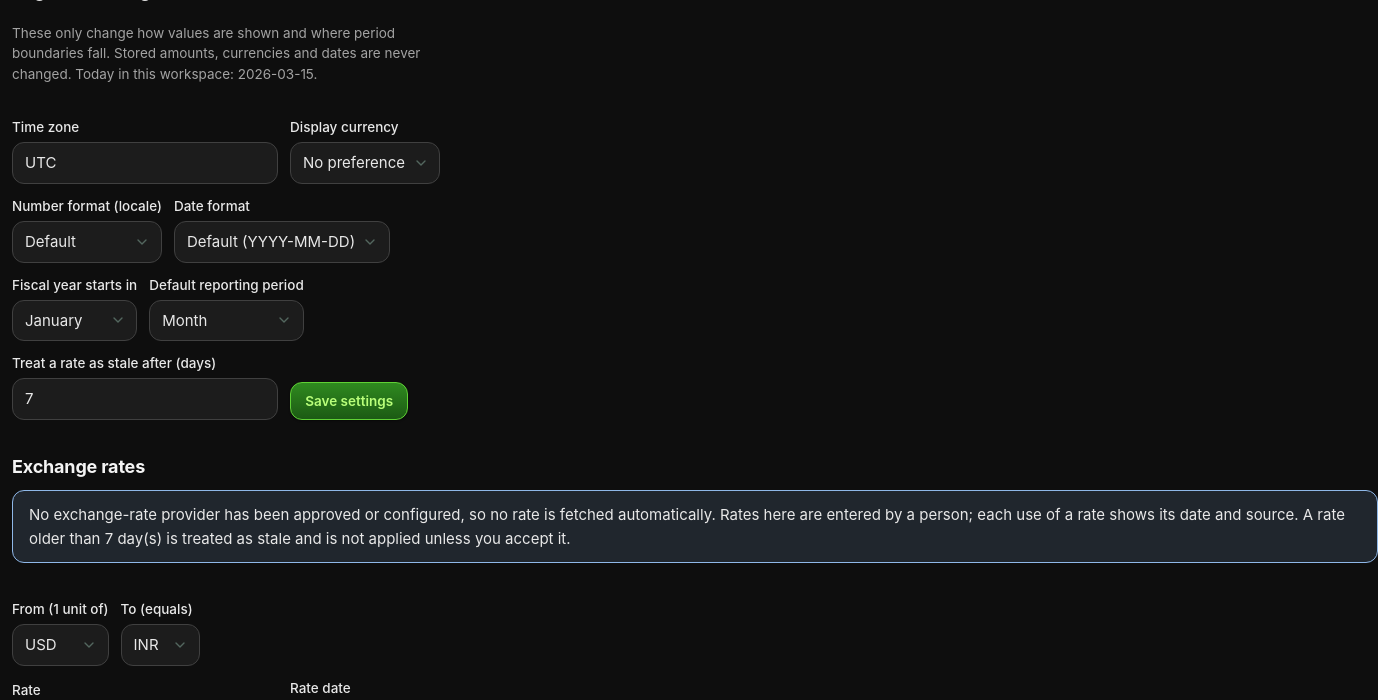
exchange rates › validates a rate, saves it as user-supplied and refreshes the list
Select "USD" in the dropdown labelled "To (equals)" at point(160, 645), box 121,624 -> 200,666
(page scrolled)
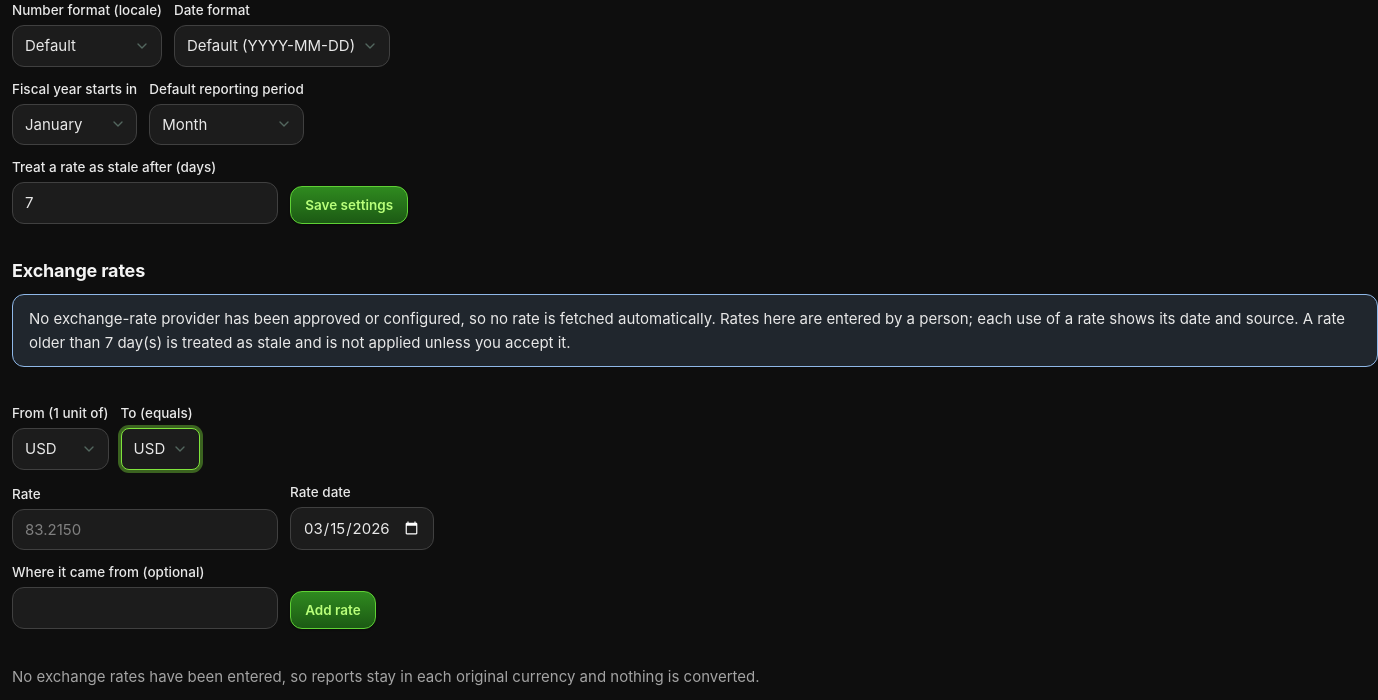
Type "83" into the field labelled "Rate" at point(145, 529), box 12,508 -> 278,550
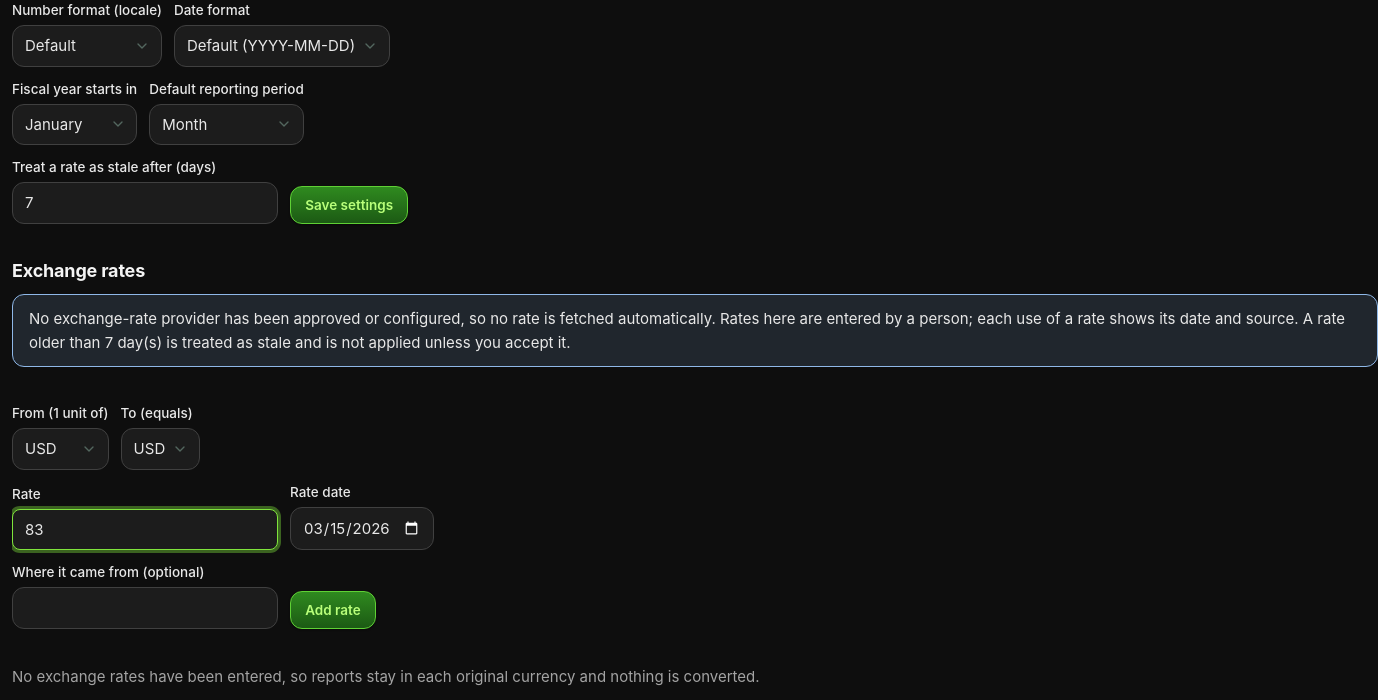
Click the button "Add rate" at point(333, 610), box 290,591 -> 376,629
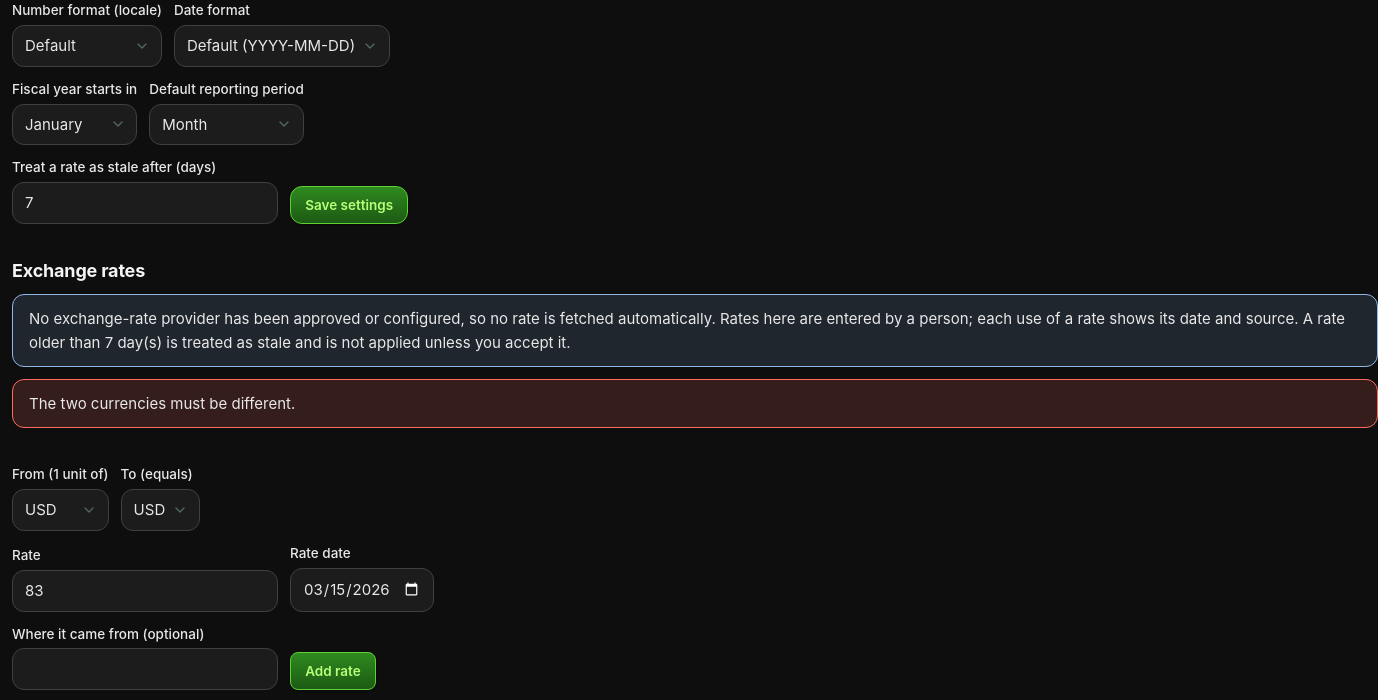
Result: the message "The two currencies must be different." is shown at 12,379 -> 1377,428
Select "INR" in the dropdown labelled "To (equals)" at point(160, 510), box 121,489 -> 200,531
Replace the text in the field labelled "Rate" with "0" at point(145, 591), box 12,570 -> 278,612
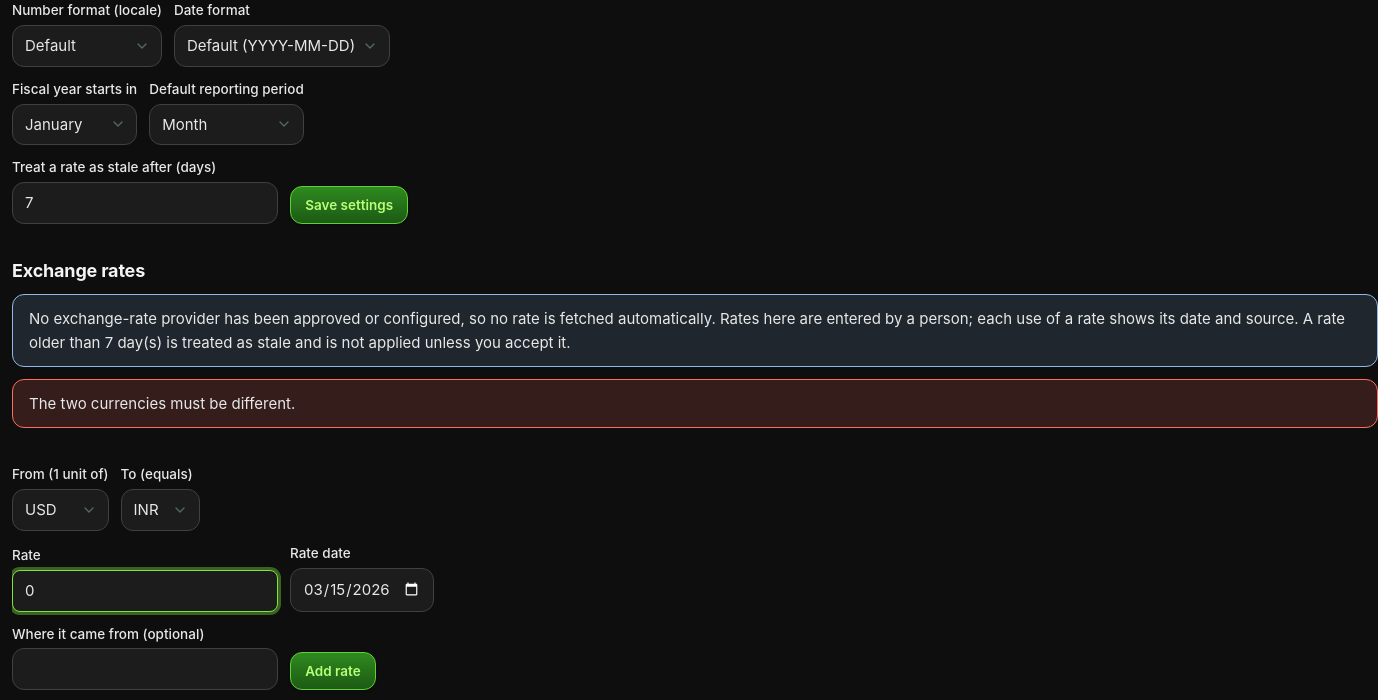
Click the button "Add rate" at point(333, 671), box 290,652 -> 376,690
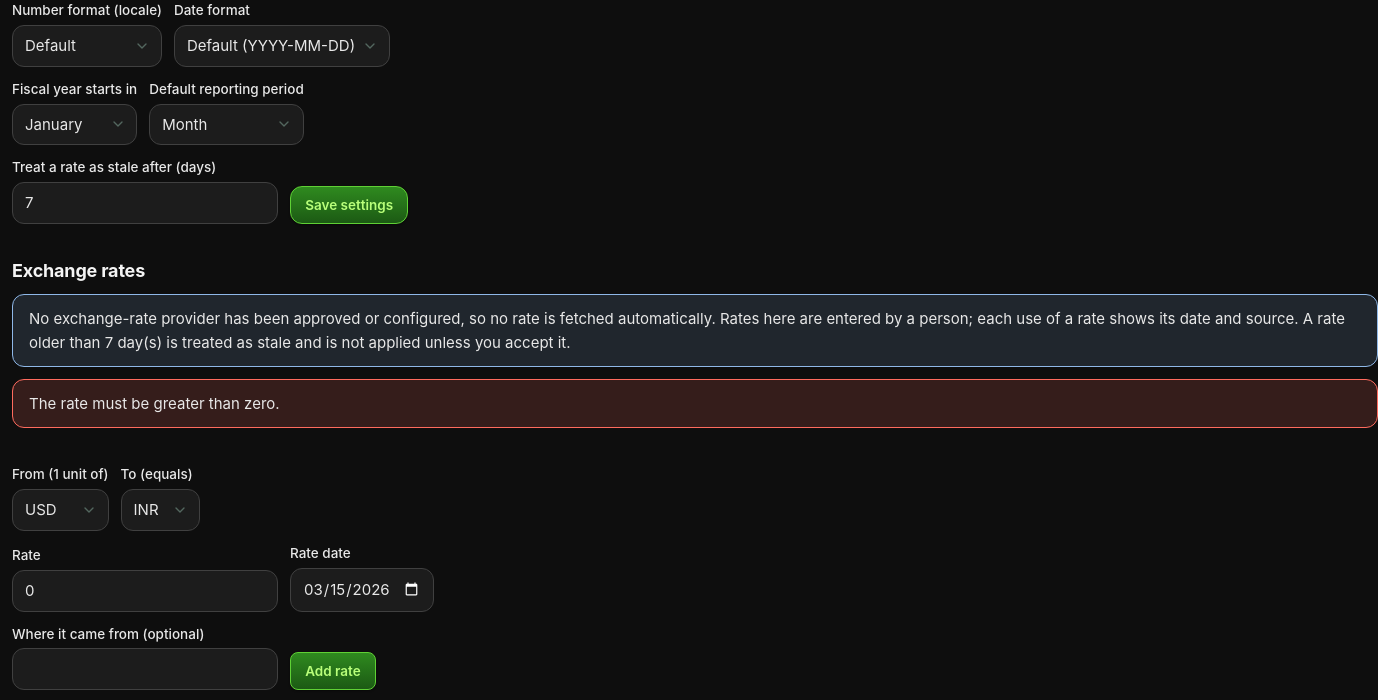
Result: the message "The rate must be greater than zero." is shown at 12,379 -> 1377,428
Replace the text in the field labelled "Rate" with "83.2150" at point(145, 591), box 12,570 -> 278,612
Click the button "Add rate" at point(333, 671), box 290,652 -> 376,690
(page scrolled)
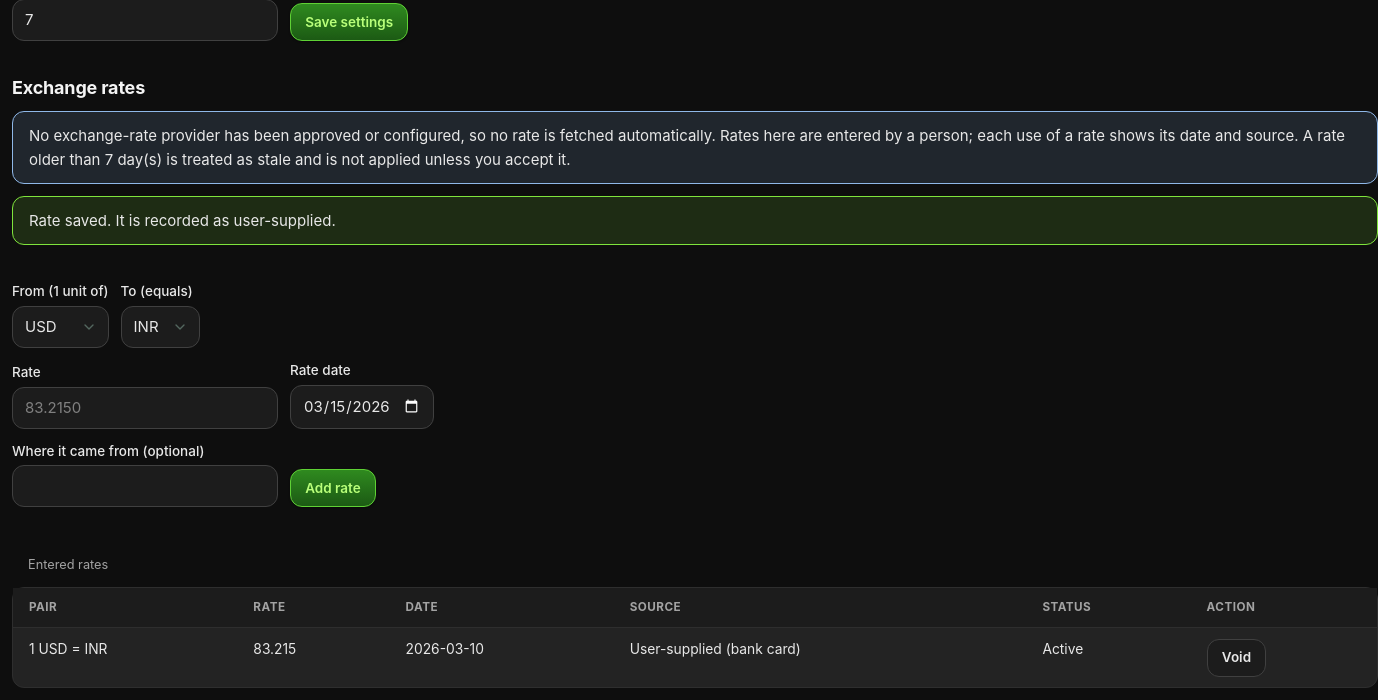
Result: the text "Rate saved. It is recorded as user-supplied." is shown at 12,196 -> 1377,245
Result: the text "1 USD = INR" is shown at 13,628 -> 237,687
Result: the text "User-supplied (bank card)" is shown at 614,628 -> 1026,687
